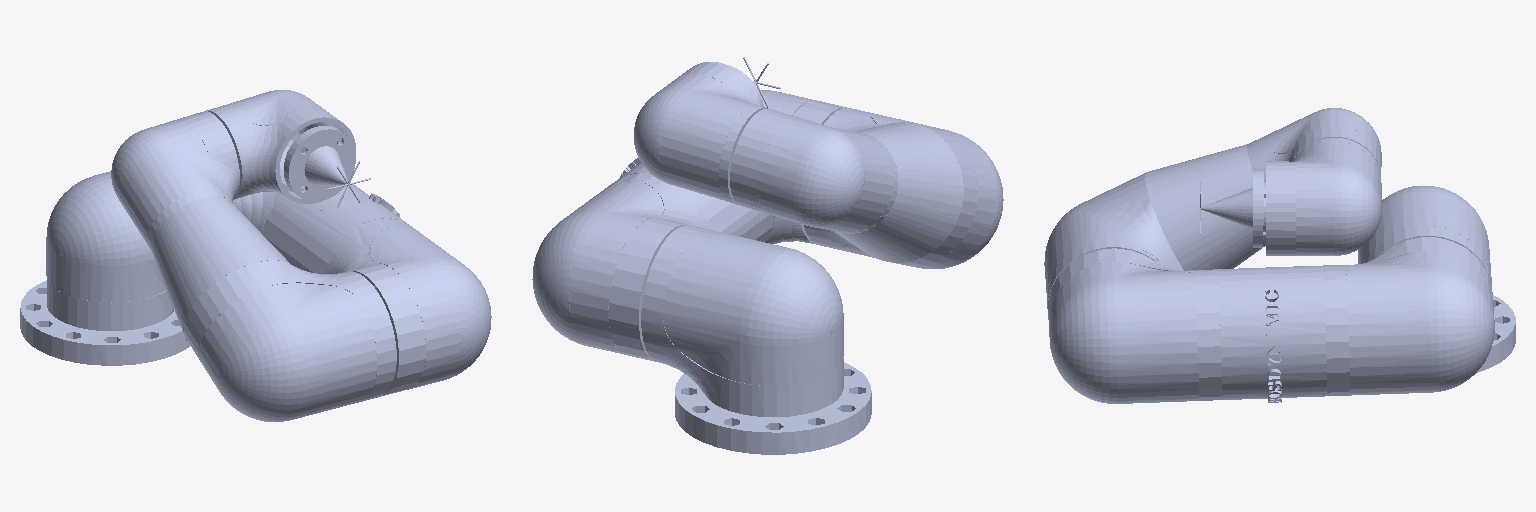
The robot description file, URDF, robot "myrobo":
<?xml version="1.0" encoding="utf-8" ?>
<!-- This URDF was automatically created by SolidWorks to URDF Exporter! Originally created by [author] ([email redacted]) 
     Commit Version: 1.5.1-0-g916b5db  Build Version: 1.5.7152.31018
     For more information, please see http://wiki.ros.org/sw_urdf_exporter -->
<robot name="myrobo">
    <link name="world" />
    <joint name="fixed" type="fixed">
        <parent link="world" />
        <child link="base_link" />
    </joint>
    <link name="base_link">
        
<inertial>
            <origin xyz="4.09806696064146E-17 -1.14126716903712E-17 0.00459171458510011" rpy="0 0 0" />
            <mass value="0.0288174973188085" />
            <inertia ixx="9.25051055821481E-06" ixy="-7.02578454851562E-22" ixz="-4.92111158734313E-22" iyy="9.25051055821481E-06" iyz="-2.71702725352216E-20" izz="1.78233134695278E-05" />
        </inertial>

        <visual>
            <origin xyz="0 0 0" rpy="0 0 0" />
            <geometry>
                <mesh filename="package://myrobo/meshes/base_link.STL" />
            </geometry>
            <material name="">
                <color rgba="0.792156862745098 0.819607843137255 0.933333333333333 1" />
            </material>
        </visual>
        <collision>
            <origin xyz="0 0 0" rpy="0 0 0" />
            <geometry>
                <mesh filename="package://myrobo/meshes/base_link.STL" />
            </geometry>
        </collision>
    </link>
    <link name="elbow01">
        
<inertial>
            <origin xyz="0.0112604935607844 -3.38706414801057E-06 -0.023201191440335" rpy="0 0 0" />
            <mass value="0.0435645520761735" />
            <inertia ixx="1.7237011341498E-05" ixy="3.6594552570079E-09" ixz="4.39323096892344E-06" iyy="2.1173015413831E-05" iyz="-2.83845167844656E-09" izz="2.53835553793144E-05" />
        </inertial>

        <visual>
            <origin xyz="0 0 0" rpy="0 0 0" />
            <geometry>
                <mesh filename="package://myrobo/meshes/elbow01.STL" />
            </geometry>
            <material name="">
                <color rgba="0.792156862745098 0.819607843137255 0.933333333333333 1" />
            </material>
        </visual>
        <collision>
            <origin xyz="0 0 0" rpy="0 0 0" />
            <geometry>
                <mesh filename="package://myrobo/meshes/elbow01.STL" />
            </geometry>
        </collision>
    </link>
    <joint name="joint01" type="revolute">
        <origin xyz="0 0 0.01" rpy="-3.1416 0 0.029337" />
        <parent link="base_link" />
        <child link="elbow01" />
        <axis xyz="0 0 1" />
        <limit lower="0" upper="6.28" effort="30" velocity="0" />
    </joint>
    <link name="elbow0203">
        
<inertial>
            <origin xyz="0.0598499078313531 0.000211526808845008 -0.0220742365734663" rpy="0 0 0" />
            <mass value="0.105167234281897" />
            <inertia ixx="3.79175385966445E-05" ixy="1.78764422036769E-10" ixz="1.18710506603321E-10" iyy="0.000139816799084217" iyz="-1.43021672925934E-07" izz="0.000152806545256275" />
        </inertial>

        <visual>
            <origin xyz="0 0 0" rpy="0 0 0" />
            <geometry>
                <mesh filename="package://myrobo/meshes/elbow0203.STL" />
            </geometry>
            <material name="">
                <color rgba="0.792156862745098 0.819607843137255 0.933333333333333 1" />
            </material>
        </visual>
        <collision>
            <origin xyz="0 0 0" rpy="0 0 0" />
            <geometry>
                <mesh filename="package://myrobo/meshes/elbow0203.STL" />
            </geometry>
        </collision>
    </link>
    <joint name="joint02" type="revolute">
        <origin xyz="0.040897 0 -0.0279" rpy="-1.5708 -0.026337 1.5708" />
        <parent link="elbow01" />
        <child link="elbow0203" />
        <axis xyz="0 0 1" />
        <limit lower="0" upper="3.1482" effort="30" velocity="0" />
    </joint>
    <link name="elbow03">
        
<inertial>
            <origin xyz="-0.0306258181634097 0.000233311116238324 0.00700826596930849" rpy="0 0 0" />
            <mass value="0.0464510724739686" />
            <inertia ixx="1.64131392155704E-05" ixy="6.59473464124044E-08" ixz="3.89341371645115E-06" iyy="2.08572480471599E-05" iyz="-7.61359417171547E-08" izz="2.59321179337506E-05" />
        </inertial>

        <visual>
            <origin xyz="0 0 0" rpy="0 0 0" />
            <geometry>
                <mesh filename="package://myrobo/meshes/elbow03.STL" />
            </geometry>
            <material name="">
                <color rgba="0.792156862745098 0.819607843137255 0.933333333333333 1" />
            </material>
        </visual>
        <collision>
            <origin xyz="0 0 0" rpy="0 0 0" />
            <geometry>
                <mesh filename="package://myrobo/meshes/elbow03.STL" />
            </geometry>
        </collision>
    </link>
    <joint name="joint03" type="revolute">
        <origin xyz="0.1197 0 0.001103" rpy="2.3862 1.5708 -1.2037" />
        <parent link="elbow0203" />
        <child link="elbow03" />
        <axis xyz="1 0 0" />
        <limit lower="0" upper="5.20" effort="30" velocity="0" />
    </joint>
    <link name="elbow04">
        
<inertial>
            <origin xyz="0.00169391018381115 -1.03107132554126E-07 0.0238967477874054" rpy="0 0 0" />
            <mass value="0.0373304259460874" />
            <inertia ixx="1.05650258231412E-05" ixy="-1.4554285857161E-11" ixz="-1.17140652095665E-06" iyy="1.0173614189262E-05" iyz="-7.18240089633811E-11" izz="9.6938718422234E-06" />
        </inertial>

        <visual>
            <origin xyz="0 0 0" rpy="0 0 0" />
            <geometry>
                <mesh filename="package://myrobo/meshes/elbow04.STL" />
            </geometry>
            <material name="">
                <color rgba="0.792156862745098 0.819607843137255 0.933333333333333 1" />
            </material>
        </visual>
        <collision>
            <origin xyz="0 0 0" rpy="0 0 0" />
            <geometry>
                <mesh filename="package://myrobo/meshes/elbow04.STL" />
            </geometry>
        </collision>
    </link>
    <joint name="joint04" type="revolute">
        <origin xyz="-0.039794 0 0.042119" rpy="0 0 -0.063661" />
        <parent link="elbow03" />
        <child link="elbow04" />
        <axis xyz="0 0 1" />
        <limit lower="0" upper="6.284" effort="30" velocity="0" />
    </joint>
    <link name="elbow05">
        
<inertial>
            <origin xyz="0.0244387818385255 0.0277183345439888 -0.0023921288264421" rpy="0 0 0" />
            <mass value="0.0188746301093839" />
            <inertia ixx="4.80611705014575E-06" ixy="-4.28565045264268E-07" ixz="7.89458196884499E-07" iyy="4.69785761468781E-06" iyz="8.9538925131098E-07" izz="5.65513904545539E-06" />
        </inertial>

        <visual>
            <origin xyz="0 0 0" rpy="0 0 0" />
            <geometry>
                <mesh filename="package://myrobo/meshes/elbow05.STL" />
            </geometry>
            <material name="">
                <color rgba="0.792156862745098 0.819607843137255 0.933333333333333 1" />
            </material>
        </visual>
        <collision>
            <origin xyz="0 0 0" rpy="0 0 0" />
            <geometry>
                <mesh filename="package://myrobo/meshes/elbow05.STL" />
            </geometry>
        </collision>
    </link>
    <joint name="joint05" type="revolute">
        <origin xyz="0.010255 0 0.054031" rpy="-0.33099 -0.35315 -0.78862" />
        <parent link="elbow04" />
        <child link="elbow05" />
        <axis xyz="0.66133 0.75009 0" />
        <limit lower="0" upper="6.284" effort="30" velocity="0" />
    </joint>
    <link name="end">
        
<inertial>
            <origin xyz="5.81075743077974E-11 1.39183484182404E-10 0.00896736042107631" rpy="0 0 0" />
            <mass value="0.00400804744482665" />
            <inertia ixx="2.15209025250744E-07" ixy="-1.10133724144106E-15" ixz="-2.86411484279201E-15" iyy="2.15209027261701E-07" iyz="-6.84586864792589E-15" izz="3.30349565556063E-07" />
        </inertial>

        <visual>
            <origin xyz="0 0 0" rpy="0 0 0" />
            <geometry>
                <mesh filename="package://myrobo/meshes/end.STL" />
            </geometry>
            <material name="">
                <color rgba="0.792156862745098 0.819607843137255 0.933333333333333 1" />
            </material>
        </visual>
        <collision>
            <origin xyz="0 0 0" rpy="0 0 0" />
            <geometry>
                <mesh filename="package://myrobo/meshes/end.STL" />
            </geometry>
        </collision>
    </link>
    <joint name="joint06" type="revolute">
        <origin xyz="0.029775 0.033771 -0.021427" rpy="3.1416 0 0.90658" />
        <parent link="elbow05" />
        <child link="end" />
        <axis xyz="0 0 1" />
        <limit lower="0" upper="6.284" effort="30" velocity="0" />
    </joint>
    
<transmission name="trans_joint01">
        <type>transmission_interface/SimpleTransmission</type>
        <joint name="joint01">
            <hardwareInterface>hardware_interface/EffortJointInterface</hardwareInterface>
        </joint>
        <actuator name="joint01_motor">
            <hardwareInterface>hardware_interface/EffortJointInterface</hardwareInterface>
            <mechanicalReduction>1</mechanicalReduction>
        </actuator>
    </transmission>
    <transmission name="trans_joint02">
        <type>transmission_interface/SimpleTransmission</type>
        <joint name="joint02">
            <hardwareInterface>hardware_interface/EffortJointInterface</hardwareInterface>
        </joint>
        <actuator name="joint02_motor">
            <hardwareInterface>hardware_interface/EffortJointInterface</hardwareInterface>
            <mechanicalReduction>1</mechanicalReduction>
        </actuator>
    </transmission>
    <transmission name="trans_joint03">
        <type>transmission_interface/SimpleTransmission</type>
        <joint name="joint03">
            <hardwareInterface>hardware_interface/EffortJointInterface</hardwareInterface>
        </joint>
        <actuator name="joint03_motor">
            <hardwareInterface>hardware_interface/EffortJointInterface</hardwareInterface>
            <mechanicalReduction>1</mechanicalReduction>
        </actuator>
    </transmission>
    <transmission name="trans_joint04">
        <type>transmission_interface/SimpleTransmission</type>
        <joint name="joint04">
            <hardwareInterface>hardware_interface/EffortJointInterface</hardwareInterface>
        </joint>
        <actuator name="joint04_motor">
            <hardwareInterface>hardware_interface/EffortJointInterface</hardwareInterface>
            <mechanicalReduction>1</mechanicalReduction>
        </actuator>
    </transmission>
    <transmission name="trans_joint05">
        <type>transmission_interface/SimpleTransmission</type>
        <joint name="joint05">
            <hardwareInterface>hardware_interface/EffortJointInterface</hardwareInterface>
        </joint>
        <actuator name="joint05_motor">
            <hardwareInterface>hardware_interface/EffortJointInterface</hardwareInterface>
            <mechanicalReduction>1</mechanicalReduction>
        </actuator>
    </transmission>
    <transmission name="trans_joint06">
        <type>transmission_interface/SimpleTransmission</type>
        <joint name="joint06">
            <hardwareInterface>hardware_interface/EffortJointInterface</hardwareInterface>
        </joint>
        <actuator name="joint06_motor">
            <hardwareInterface>hardware_interface/EffortJointInterface</hardwareInterface>
            <mechanicalReduction>1</mechanicalReduction>
        </actuator>
    </transmission>
    <gazebo>
        <plugin name="gazebo_ros_control" filename="libgazebo_ros_control.so">
            <robotNamespace>/</robotNamespace>
        </plugin>
    </gazebo>
</robot>

--- Render facts (derived) ---
Views: 3 orthographic renders of the robot side by side, from view 1: azimuth 30°, elevation 25°; view 2: azimuth 150°, elevation 25°; view 3: azimuth 270°, elevation 25°.
Model myrobo with 8 links and 7 joints (6 revolute, 1 fixed), rooted at world, posed every joint at zero.
Links seen in each view (by area): view 1: elbow03, elbow0203, elbow04, elbow01, elbow05, base_link, end; view 2: elbow01, elbow04, elbow0203, elbow05, base_link, elbow03; view 3: elbow0203, elbow04, elbow05, elbow03, elbow01, end, base_link.
Boxes of the visible links, x1,y1,x2,y2 form: elbow03: (183,260,396,421); elbow0203: (233,182,491,395); elbow04: (111,111,289,339); elbow01: (46,171,173,330); elbow05: (206,90,355,203); base_link: (20,280,189,365); end: (284,126,370,207); elbow01: (641,225,843,416); elbow04: (730,109,963,262); elbow0203: (532,90,846,361); elbow05: (634,62,767,204); base_link: (675,362,871,454); elbow03: (804,108,1003,268); elbow0203: (1048,237,1494,403); elbow04: (1145,108,1381,270); elbow05: (1266,138,1381,255); elbow03: (1044,173,1183,308); elbow01: (1358,186,1492,293); end: (1200,169,1265,247); base_link: (1477,295,1515,372).
Bounding box of the posed robot: 0.1325 × 0.1795 × 0.0999 m (x, y, z).
Meshes: 7 distinct files referenced, 7 mesh visuals loaded (7 binary STL).